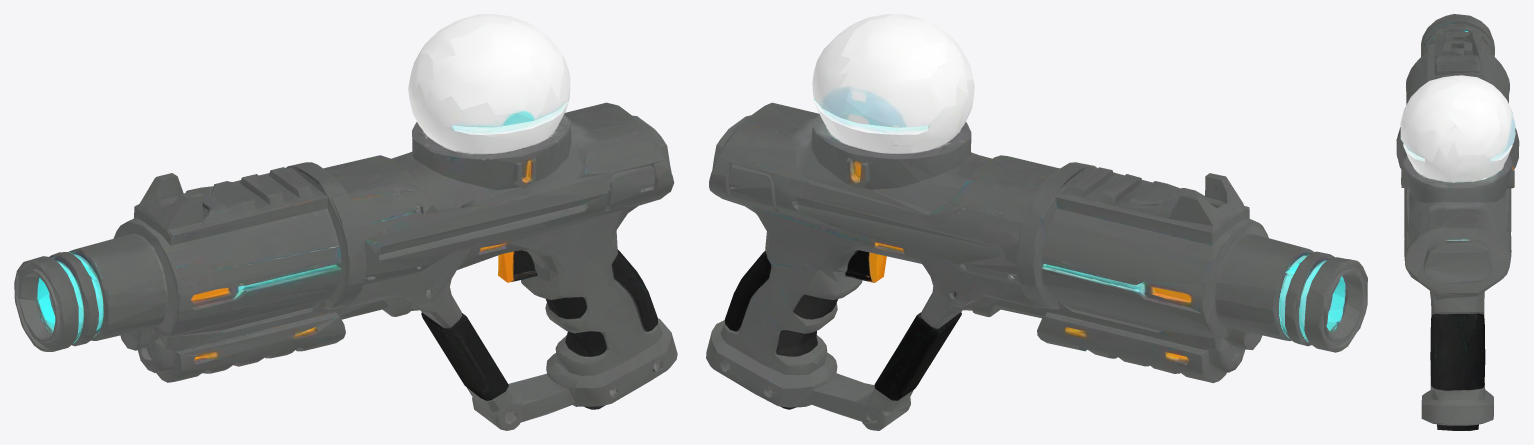
Rendered from disc_launcher.glb.
3 views of the same model, side by side, from view 1: azimuth 30°, elevation 25°; view 2: azimuth 150°, elevation 25°; view 3: azimuth 270°, elevation 25° (orthographic). The views are drawn at different scales.
Visible parts, largest first — view 1: Mesh_0; view 2: Mesh_0; view 3: Mesh_0.
Part boxes in pixels (box(x1,y1,x2,y2)): Mesh_0: box(14, 14, 677, 430); Mesh_0: box(706, 14, 1367, 430); Mesh_0: box(1396, 14, 1519, 430).
Size of the model in its own units: 1.9 by 1.16 by 0.4204.
1 material, 1 textured.
